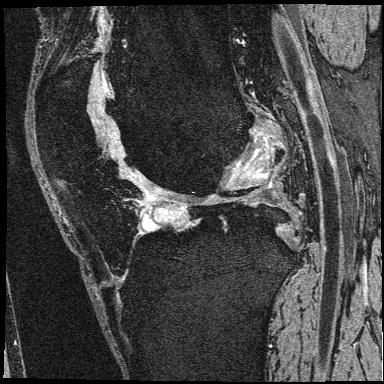SagKneeJointArea: (34, 56, 299, 289)
